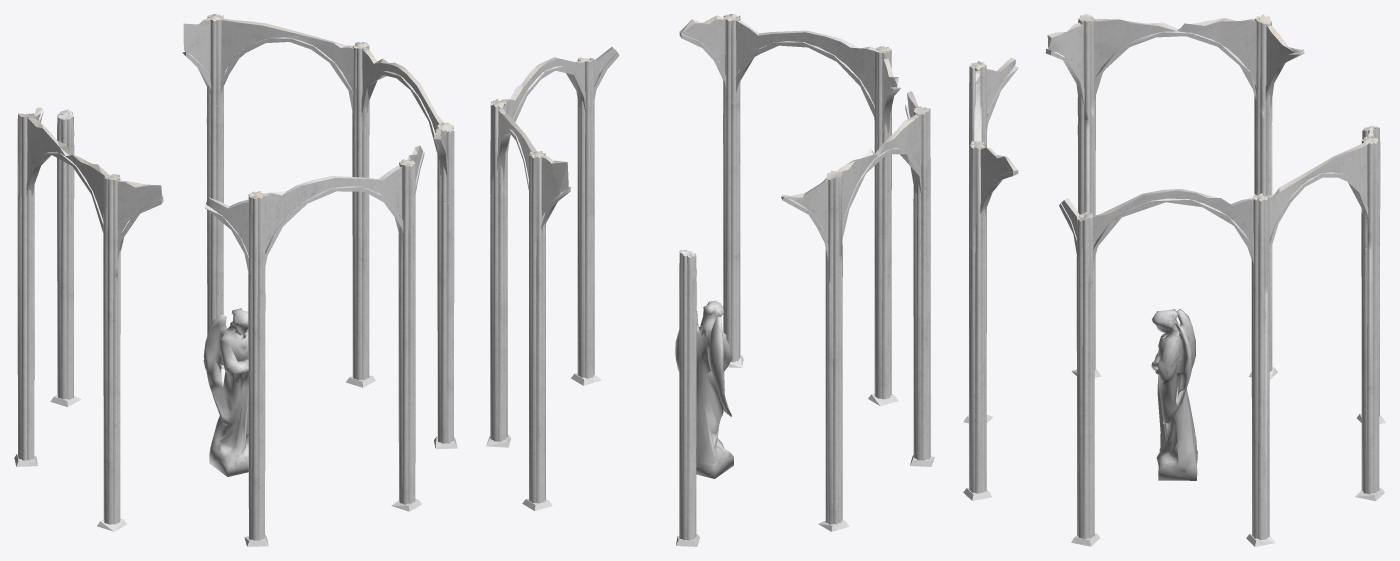
File: BloodTemple.obj
3 views of the same model, side by side, from view 1: azimuth 30°, elevation 25°; view 2: azimuth 150°, elevation 25°; view 3: azimuth 270°, elevation 25° (orthographic). The views are drawn at different scales.
Parts seen in each view (by area): view 1: Angel, Column, Column.001, Column.007, Column.002, Column.005, Column.006, Column.003, Column.004, BrokenPart.003, BrokenPart.006, BrokenPart.002 (+4 smaller); view 2: Column.002, Column.001, Column.004, Column.007, Column.005, Column, Column.006, Angel, Column.003, BrokenPart.003, BrokenPart.001, BrokenPart.004 (+5 smaller); view 3: Column.004, Column.005, Angel, Column.007, Column.006, BrokenPart.001, BrokenPart.005, Column.001, Column.002, BrokenPart.006, BrokenPart.002, BrokenPart.004 (+3 smaller).
Part boxes in pixels (x1,y1,x2,y2): Angel: (203,308,248,476); Column: (248,191,265,540); Column.001: (103,173,120,524); Column.007: (398,159,415,504); Column.002: (17,113,34,460); Column.005: (352,42,369,379); Column.006: (437,122,454,443); Column.003: (57,108,74,399); Column.004: (206,14,223,334); BrokenPart.003: (264,163,407,265); BrokenPart.006: (220,18,353,115); BrokenPart.002: (117,180,248,274); Column.002: (825,170,842,524); Column.001: (913,107,930,460); Column.004: (529,151,545,503); Column.007: (723,14,740,362); Column.005: (490,98,507,441); Column: (874,46,891,399); Column.006: (577,57,594,378); Angel: (675,300,733,478); Column.003: (679,249,696,540); BrokenPart.003: (733,17,875,119); BrokenPart.001: (838,114,921,237); BrokenPart.004: (594,15,726,102); Column.004: (1361,137,1379,494); Column.005: (1251,193,1269,540); Angel: (1151,308,1197,480); Column.007: (969,141,986,493); Column.006: (1076,212,1094,538); BrokenPart.001: (1093,18,1256,100); BrokenPart.005: (1092,189,1253,263); Column.001: (1077,14,1095,369); Column.002: (1254,14,1272,372); BrokenPart.006: (1266,143,1368,252); BrokenPart.002: (986,22,1084,130); BrokenPart.004: (980,147,1079,254).
Size of the model in its own units: 10.95 by 10.61 by 10.93.
Materials: 3 (3 with a texture image).
